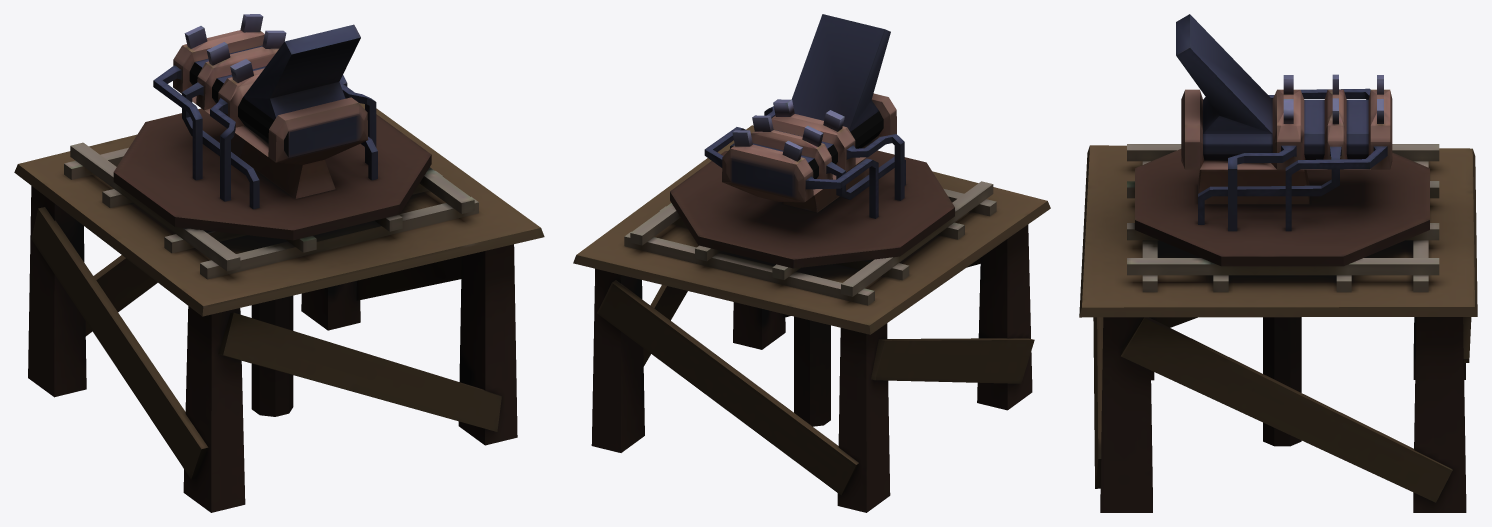
The model's file is tile_sawbladelauncher_lod2.fbx.
3 views of the same model, side by side, from view 1: azimuth 30°, elevation 25°; view 2: azimuth 150°, elevation 25°; view 3: azimuth 270°, elevation 25° (orthographic). The views are drawn at different scales.
Visible parts, largest first — view 1: Base_lod2, SawBlade_Launcher_lod1; view 2: Base_lod2, SawBlade_Launcher_lod1; view 3: Base_lod2, SawBlade_Launcher_lod1.
Boxes of the visible parts, x1,y1,x2,y2 form: Base_lod2: (14, 103, 544, 512); SawBlade_Launcher_lod1: (113, 14, 431, 416); Base_lod2: (573, 125, 1050, 512); SawBlade_Launcher_lod1: (670, 14, 954, 426); Base_lod2: (1079, 144, 1477, 512); SawBlade_Launcher_lod1: (1135, 14, 1429, 446).
Size of the model in its own units: 0.0327 by 0.0378 by 0.0335.
